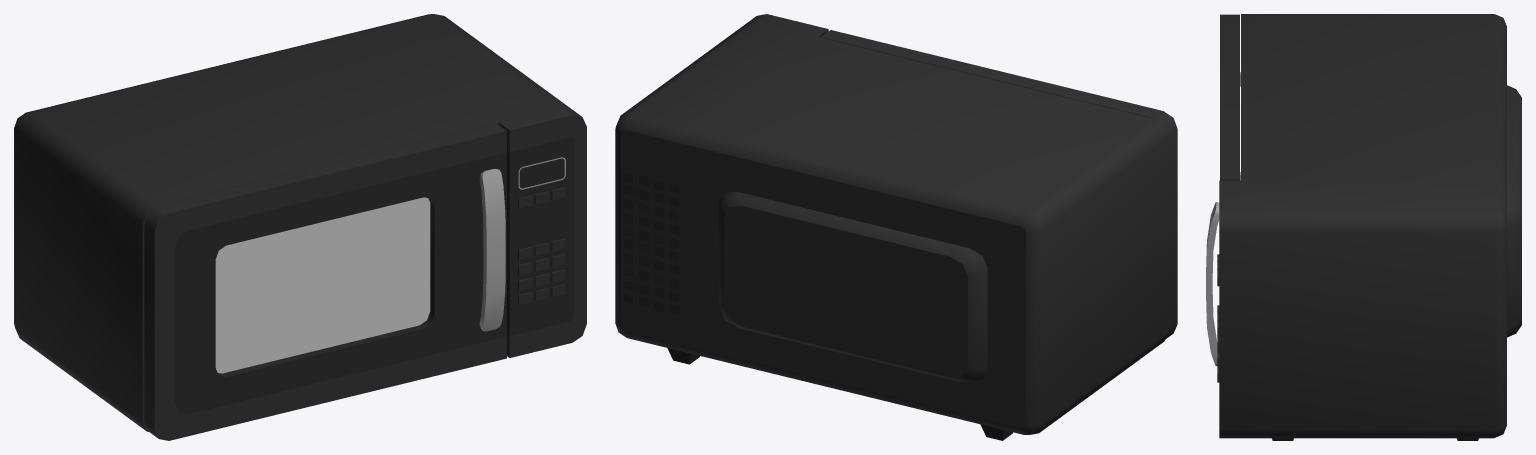
Rendered from Microwave_01.fbx.
3 views of the same model, side by side, from view 1: azimuth 30°, elevation 25°; view 2: azimuth 150°, elevation 25°; view 3: azimuth 270°, elevation 25° (orthographic).
Parts seen in each view (by area): view 1: Microwave_01, Microwave_01_Door; view 2: Microwave_01, Microwave_01_Door; view 3: Microwave_01, Microwave_01_Door.
Boxes of the visible parts, x1,y1,x2,y2 form: Microwave_01: (14, 14, 586, 431); Microwave_01_Door: (144, 123, 506, 440); Microwave_01: (615, 14, 1168, 440); Microwave_01_Door: (821, 30, 1177, 338); Microwave_01: (1217, 14, 1521, 440); Microwave_01_Door: (1206, 14, 1240, 366).
Size of the model in its own units: 0.5353 by 0.293 by 0.3393.
